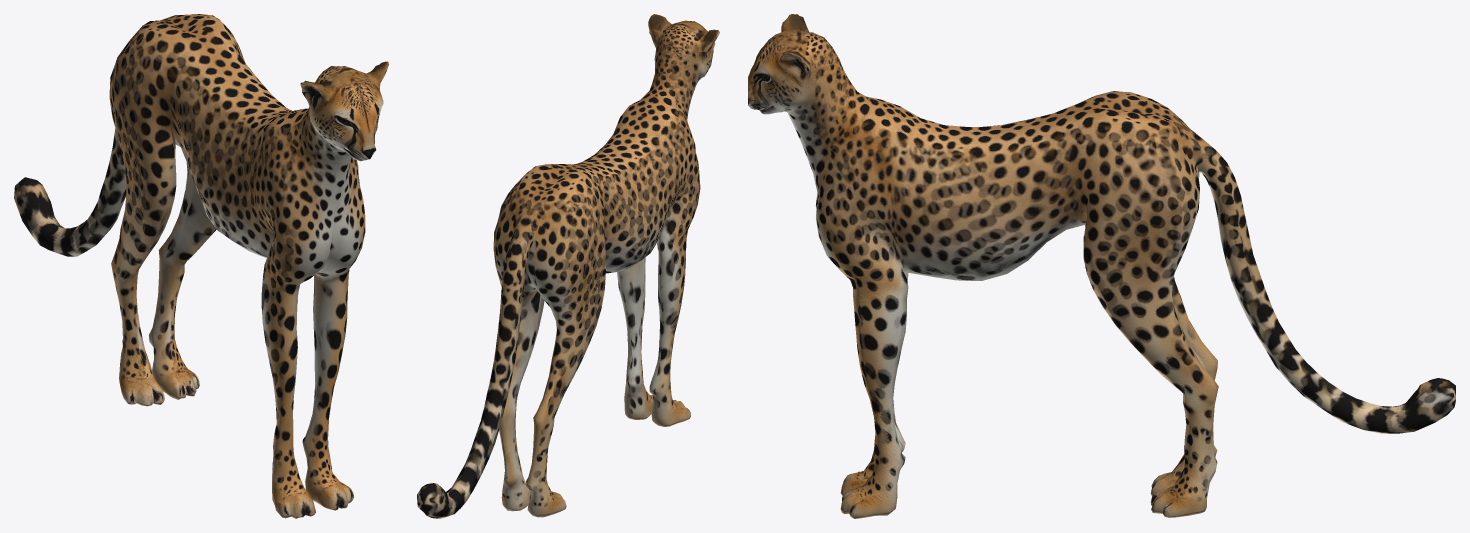
Rendered from cheetah.glb.
3 renders of one model, left to right at view 1: azimuth 30°, elevation 25°; view 2: azimuth 150°, elevation 25°; view 3: azimuth 270°, elevation 25°, orthographic. The views are drawn at different scales.
Bounding box in the file's own units: 0.1826 × 0.7324 × 1.
Materials: 1 (1 with a texture image).
